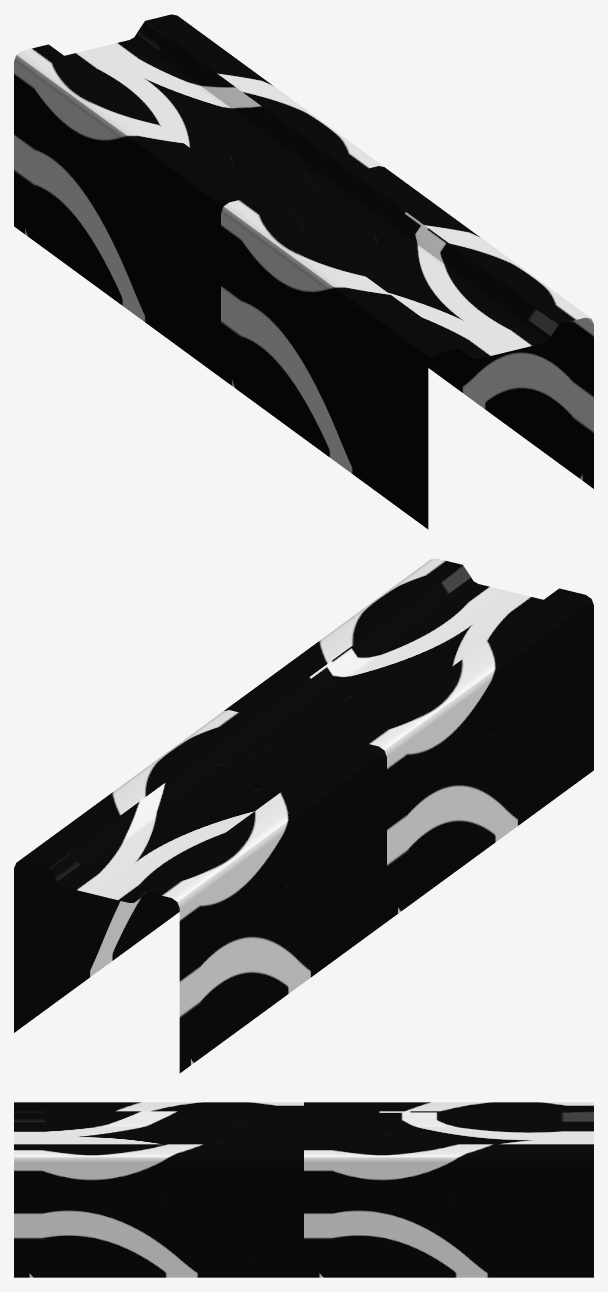
Rendered from Marble_RampPiece.fbx.
3 views of the same model, one above another, from view 1: azimuth 30°, elevation 25°; view 2: azimuth 150°, elevation 25°; view 3: azimuth 270°, elevation 25° (orthographic). The views are drawn at different scales.
Visible parts, largest first — view 1: Marble_RampPiece; view 2: Marble_RampPiece; view 3: Marble_RampPiece.
Boxes of the visible parts, <box> form: Marble_RampPiece: <box>14,14,593,529</box>; Marble_RampPiece: <box>14,558,593,1073</box>; Marble_RampPiece: <box>14,1102,593,1277</box>.
Size of the model in its own units: 173 by 173 by 749.
